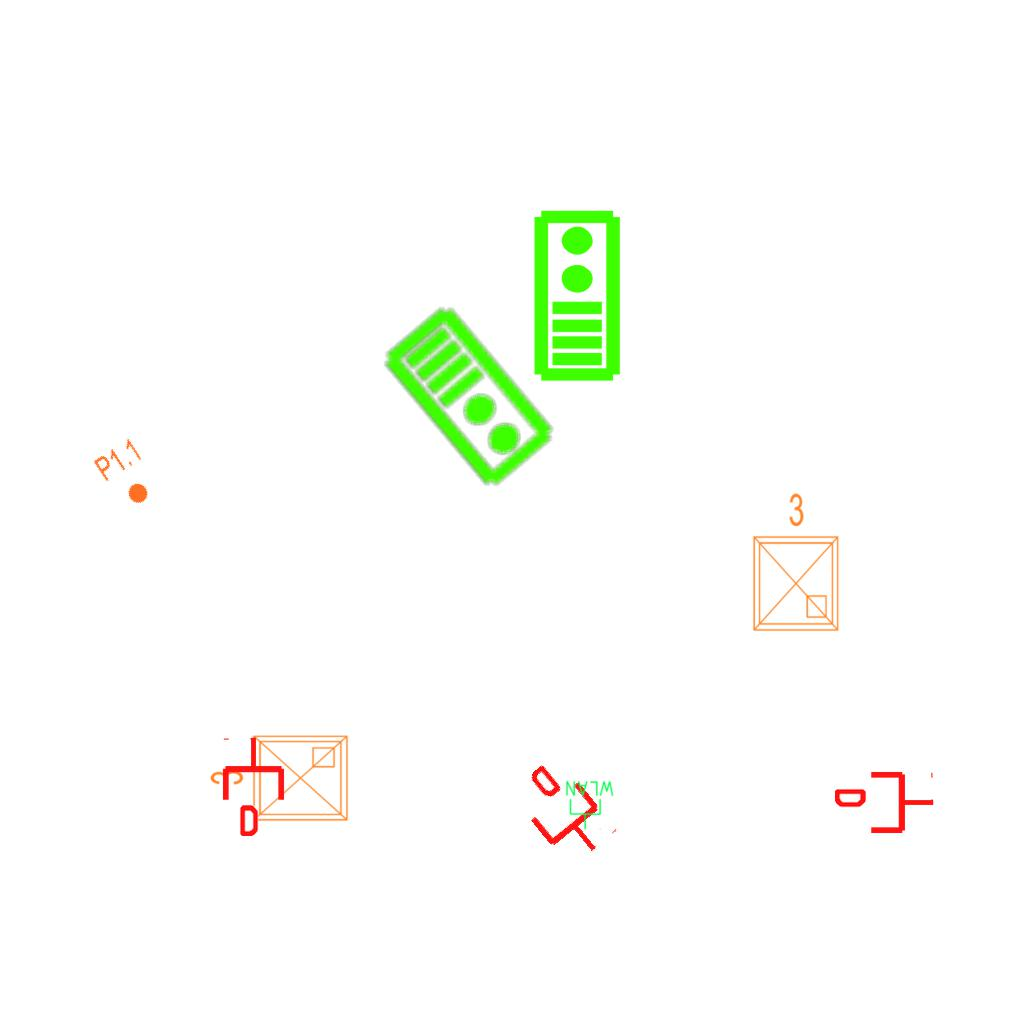Datenanschluss_einfach: (505, 751, 622, 873), (835, 768, 935, 837), (219, 736, 288, 836)
Downlight_LED_Einbauleuchten_Flur: (91, 435, 165, 515)
Einbaudownlights_LED_Konferenzraeume: (742, 488, 846, 638), (205, 728, 355, 832)
Gegensprechanlage_mit_Video: (377, 298, 564, 494), (528, 207, 623, 383)
WLAN: (564, 779, 616, 831)
